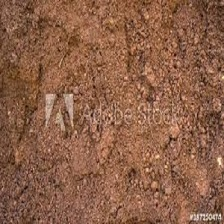sandy_soil: (9, 20, 210, 210)
